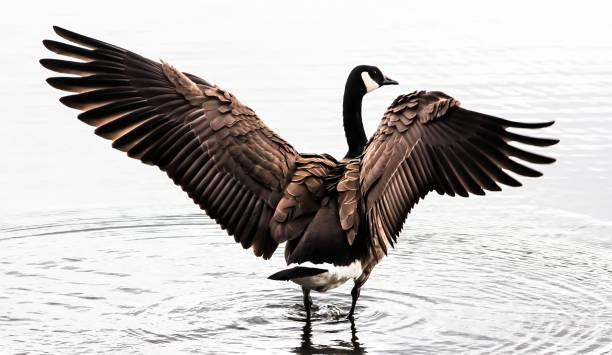Canadian-Goose: (43, 24, 562, 335)
